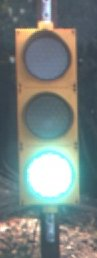Green: (3, 18, 97, 228)
